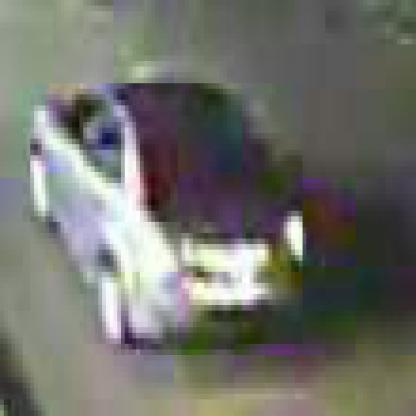car: (28, 85, 304, 351)
